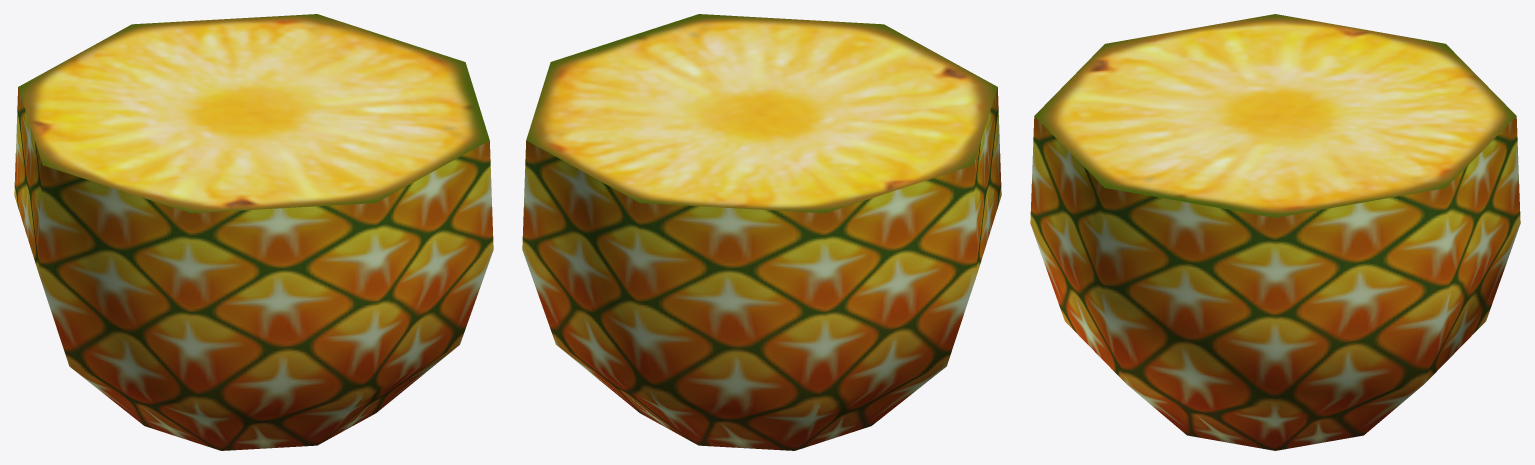
The model's file is Pineapple_Half.fbx.
3 renders of one model, left to right at view 1: azimuth 30°, elevation 25°; view 2: azimuth 150°, elevation 25°; view 3: azimuth 270°, elevation 25°, orthographic.
Visible parts, largest first — view 1: Pineapple_Half; view 2: Pineapple_Half; view 3: Pineapple_Half.
Boxes of the visible parts, left/top/right/bottom form: Pineapple_Half: left=14, top=14, right=493, bottom=450; Pineapple_Half: left=522, top=14, right=1001, bottom=450; Pineapple_Half: left=1030, top=14, right=1520, bottom=450.
Size of the model in its own units: 44.05 by 30.11 by 44.05.
